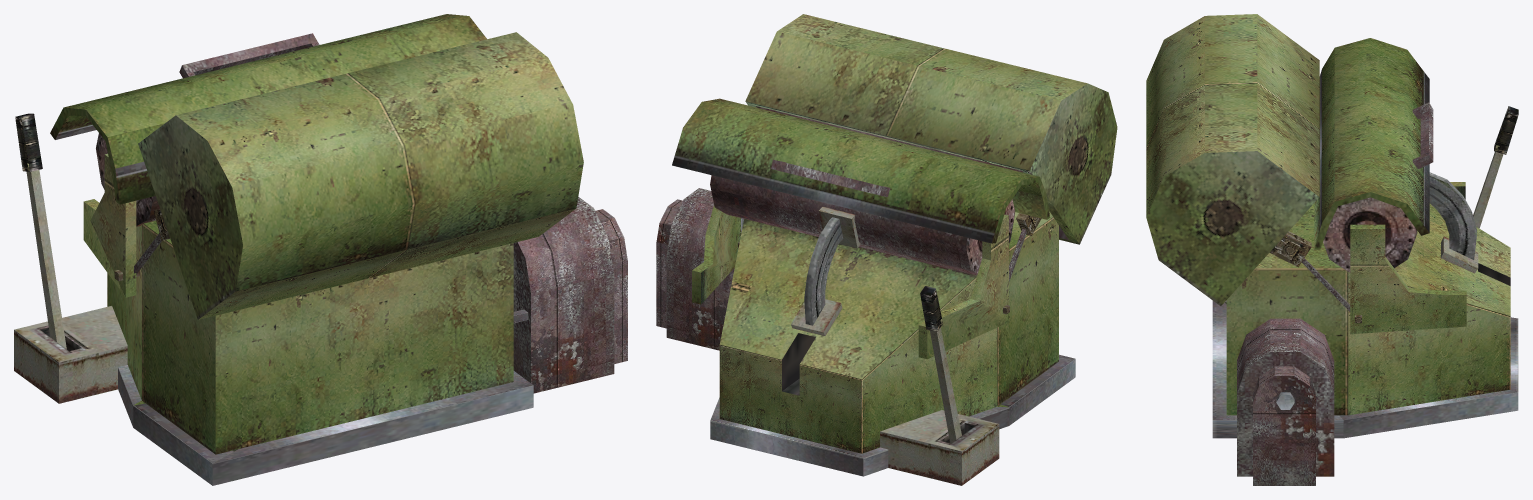
The model's file is machine_industrial_3.fbx.
The picture shows the model from 3 angles, left to right: view 1: azimuth 30°, elevation 25°; view 2: azimuth 150°, elevation 25°; view 3: azimuth 270°, elevation 25°; orthographic projection. The views are drawn at different scales.
Parts seen in each view (by area): view 1: mesh_3, mesh_0, mesh_24, mesh_7, mesh_8, mesh_2, mesh_18, mesh_6, mesh_20, mesh_9, mesh_25, mesh_21 (+1 smaller); view 2: mesh_0, mesh_3, mesh_24, mesh_2, mesh_4, mesh_8, mesh_7, mesh_18, mesh_6, mesh_5, mesh_11, mesh_9 (+6 smaller); view 3: mesh_0, mesh_3, mesh_24, mesh_2, mesh_7, mesh_5, mesh_8, mesh_9, mesh_4, mesh_11, mesh_25, mesh_27 (+3 smaller).
Boxes of the visible parts, x1=… form: mesh_3: x1=176, y1=32, x2=583, y2=319; mesh_0: x1=107, y1=220, x2=513, y2=454; mesh_24: x1=50, y1=14, x2=486, y2=204; mesh_7: x1=513, y1=197, x2=614, y2=393; mesh_8: x1=118, y1=365, x2=533, y2=485; mesh_2: x1=138, y1=115, x2=242, y2=319; mesh_18: x1=14, y1=306, x2=127, y2=403; mesh_6: x1=83, y1=153, x2=136, y2=297; mesh_20: x1=26, y1=170, x2=66, y2=349; mesh_9: x1=595, y1=209, x2=627, y2=363; mesh_25: x1=179, y1=33, x2=319, y2=78; mesh_21: x1=15, y1=113, x2=42, y2=171; mesh_0: x1=719, y1=211, x2=1058, y2=453; mesh_3: x1=745, y1=14, x2=1087, y2=170; mesh_24: x1=672, y1=98, x2=1050, y2=243; mesh_2: x1=745, y1=83, x2=1117, y2=244; mesh_4: x1=710, y1=175, x2=1014, y2=275; mesh_8: x1=710, y1=354, x2=1075, y2=476; mesh_7: x1=666, y1=188, x2=734, y2=350; mesh_18: x1=880, y1=410, x2=999, y2=485; mesh_6: x1=918, y1=214, x2=1008, y2=359; mesh_5: x1=692, y1=205, x2=743, y2=304; mesh_11: x1=804, y1=217, x2=843, y2=325; mesh_9: x1=656, y1=199, x2=682, y2=328; mesh_0: x1=1226, y1=203, x2=1510, y2=415; mesh_3: x1=1146, y1=14, x2=1319, y2=216; mesh_24: x1=1314, y1=38, x2=1429, y2=249; mesh_2: x1=1146, y1=151, x2=1319, y2=306; mesh_7: x1=1237, y1=318, x2=1334, y2=476; mesh_5: x1=1350, y1=224, x2=1466, y2=334; mesh_8: x1=1212, y1=300, x2=1518, y2=438; mesh_9: x1=1253, y1=366, x2=1315, y2=485; mesh_4: x1=1323, y1=197, x2=1417, y2=272; mesh_11: x1=1429, y1=172, x2=1476, y2=259; mesh_25: x1=1412, y1=102, x2=1433, y2=168; mesh_27: x1=1269, y1=231, x2=1311, y2=267.
Size of the model in its own units: 219 by 155 by 179.
Materials: 2 (2 with a texture image).
